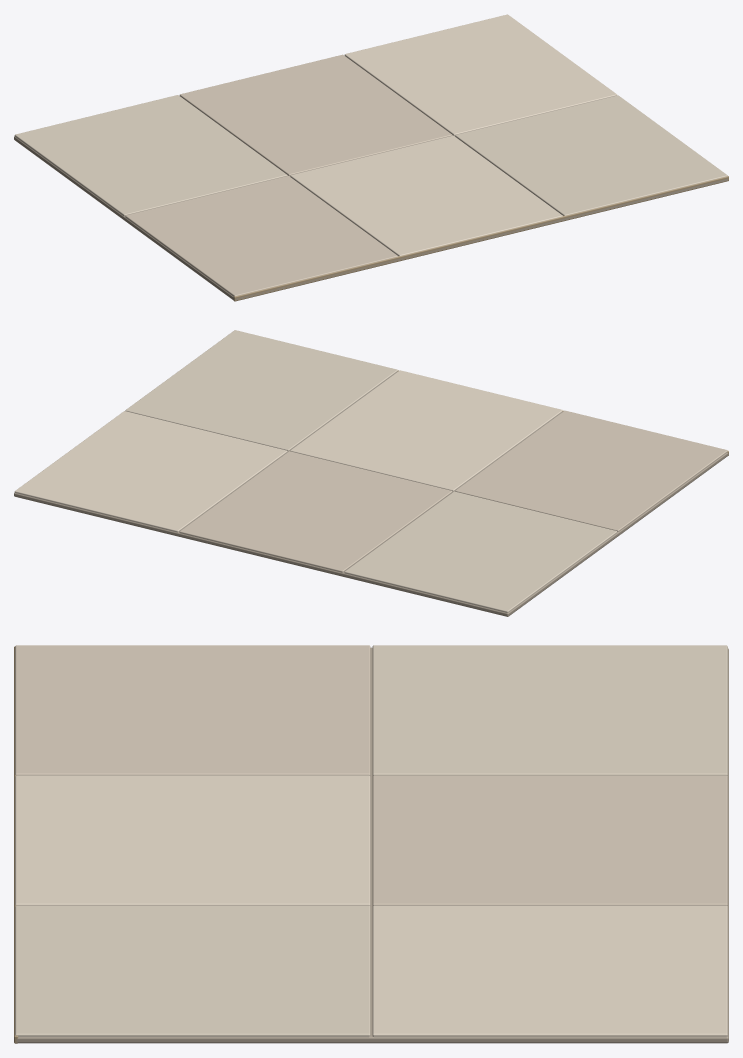
The model's file is family-entry-landing-v1.glb.
The picture shows the model from 3 angles, top to bottom: view 1: azimuth 30°, elevation 25°; view 2: azimuth 150°, elevation 25°; view 3: azimuth 270°, elevation 25°; orthographic projection. The views are drawn at different scales.
Parts seen in each view (by area): view 1: Honed tile (×6), Brass transition, Grouted bed; view 2: Honed tile (×6), Grouted bed; view 3: Honed tile (×6), Grouted bed.
Boxes of the visible parts, left/top/right/bottom form: Honed tile (×6): left=14, top=14, right=727, bottom=296; Brass transition: left=233, top=176, right=728, bottom=301; Grouted bed: left=14, top=135, right=727, bottom=300; Honed tile (×6): left=14, top=330, right=727, bottom=612; Grouted bed: left=14, top=451, right=728, bottom=616; Honed tile (×6): left=15, top=645, right=727, bottom=1037; Grouted bed: left=16, top=647, right=728, bottom=1043.
Bounding box in the file's own units: 1.24 × 0.014 × 0.96.
